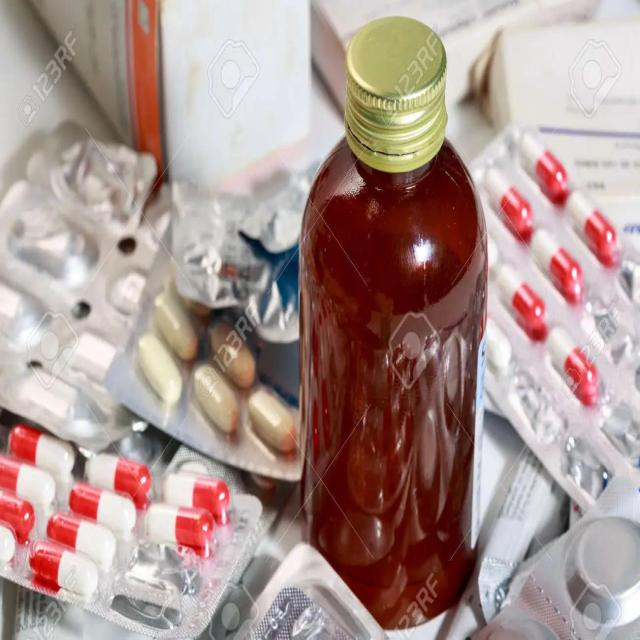B3: (293, 13, 479, 632), (107, 193, 309, 491), (481, 120, 640, 487), (2, 406, 252, 630)
